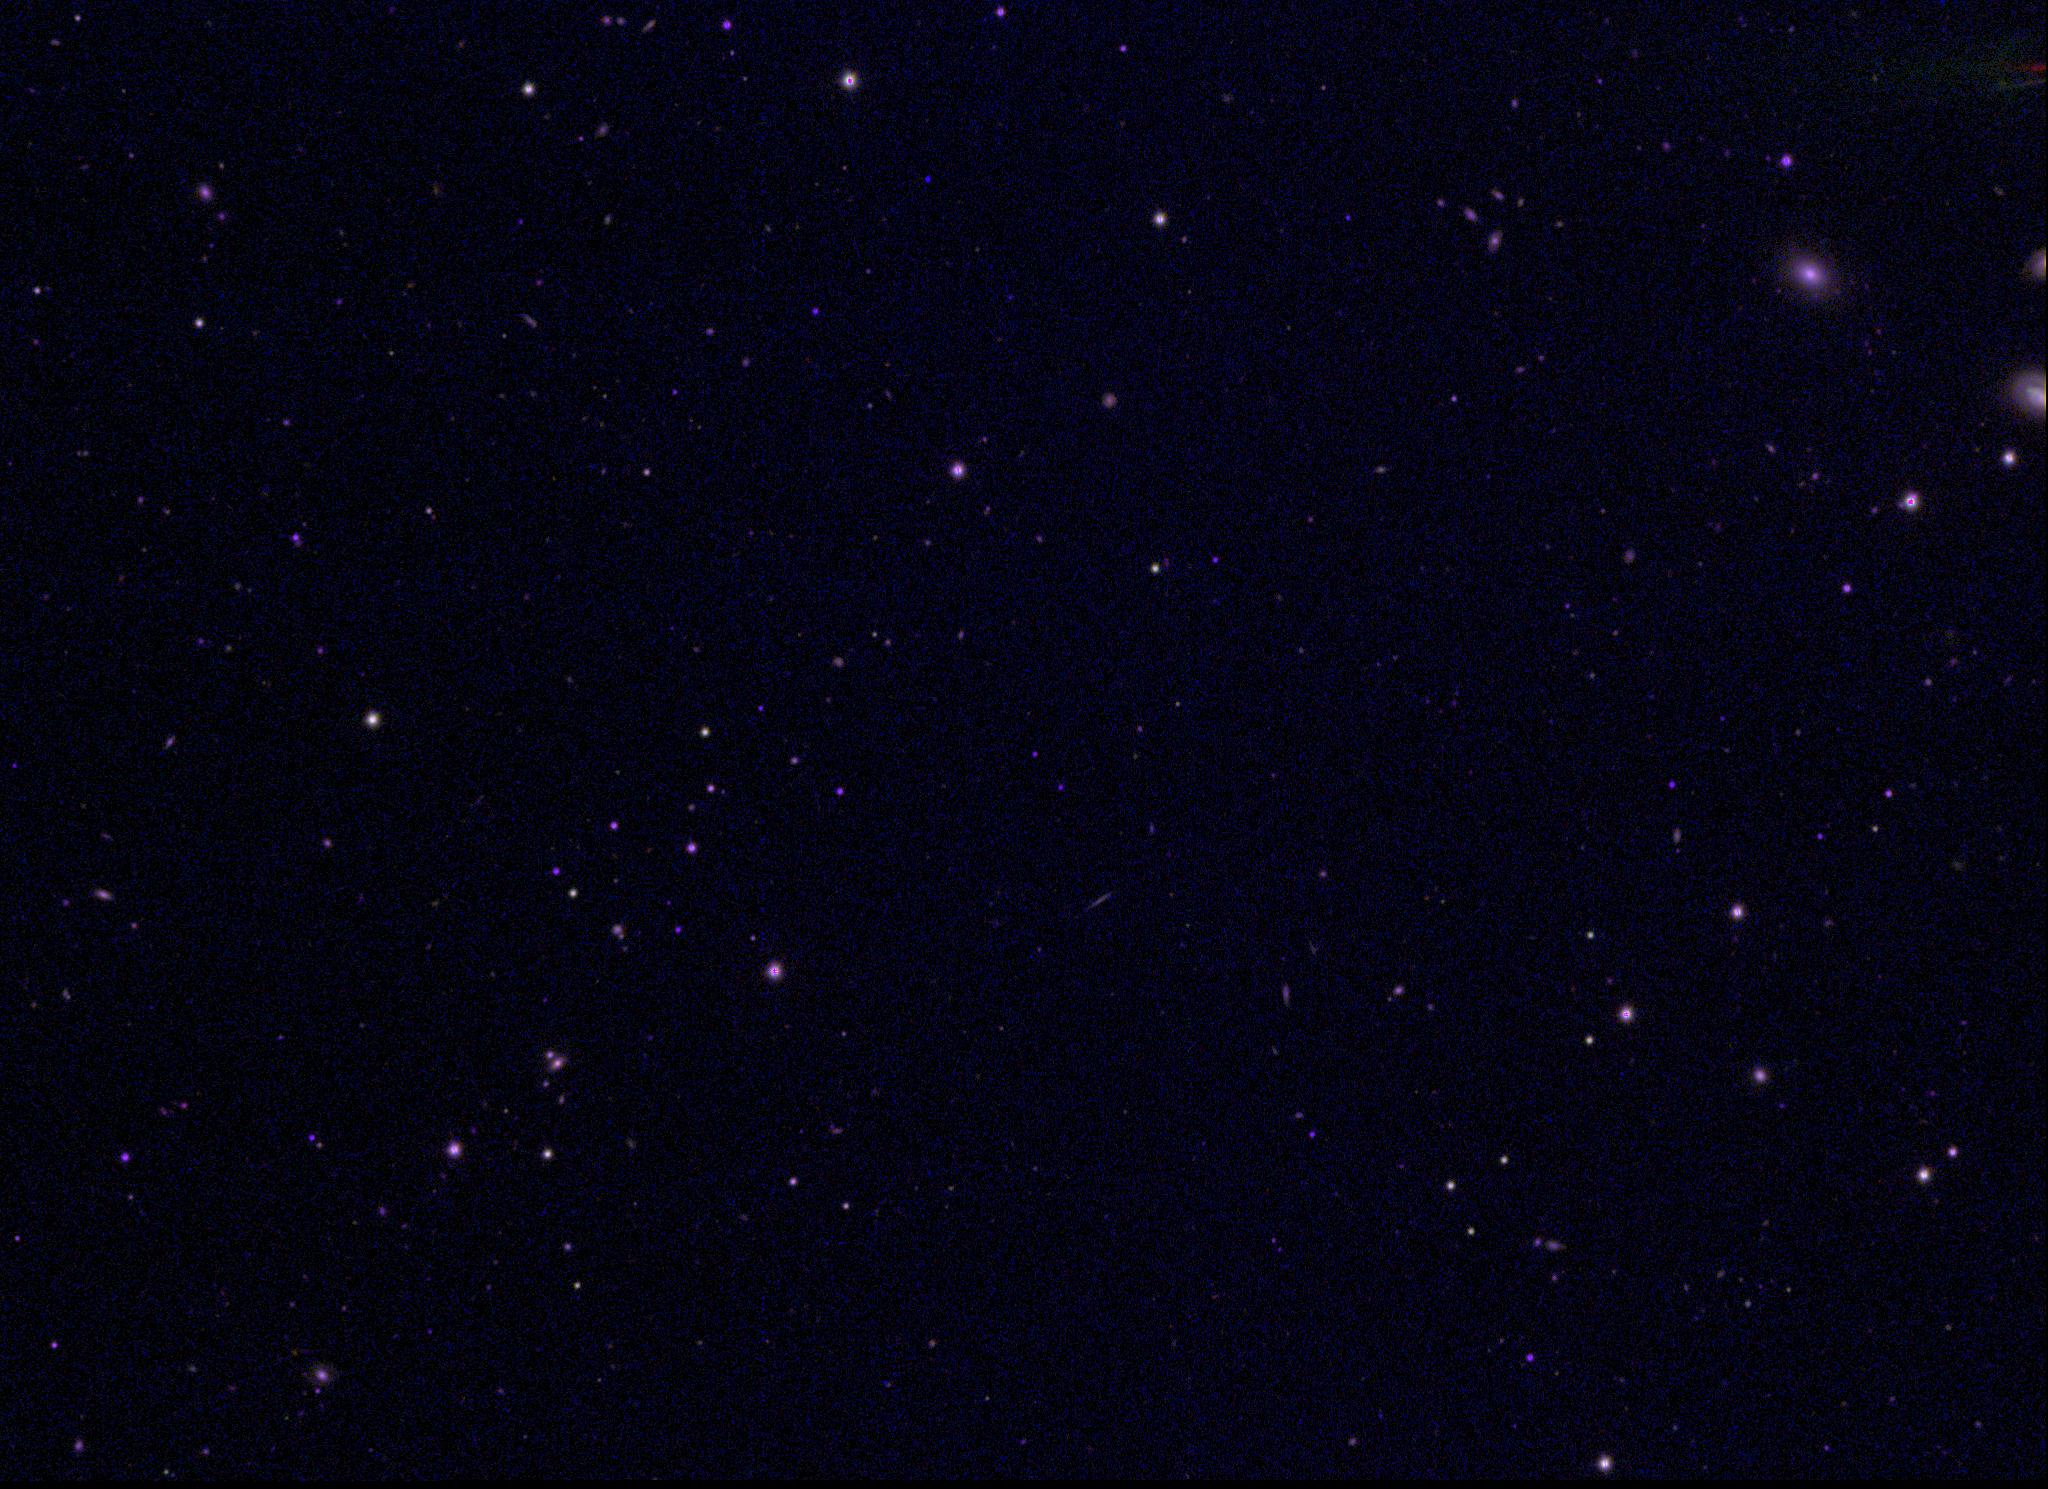L: (921, 169, 935, 181)
